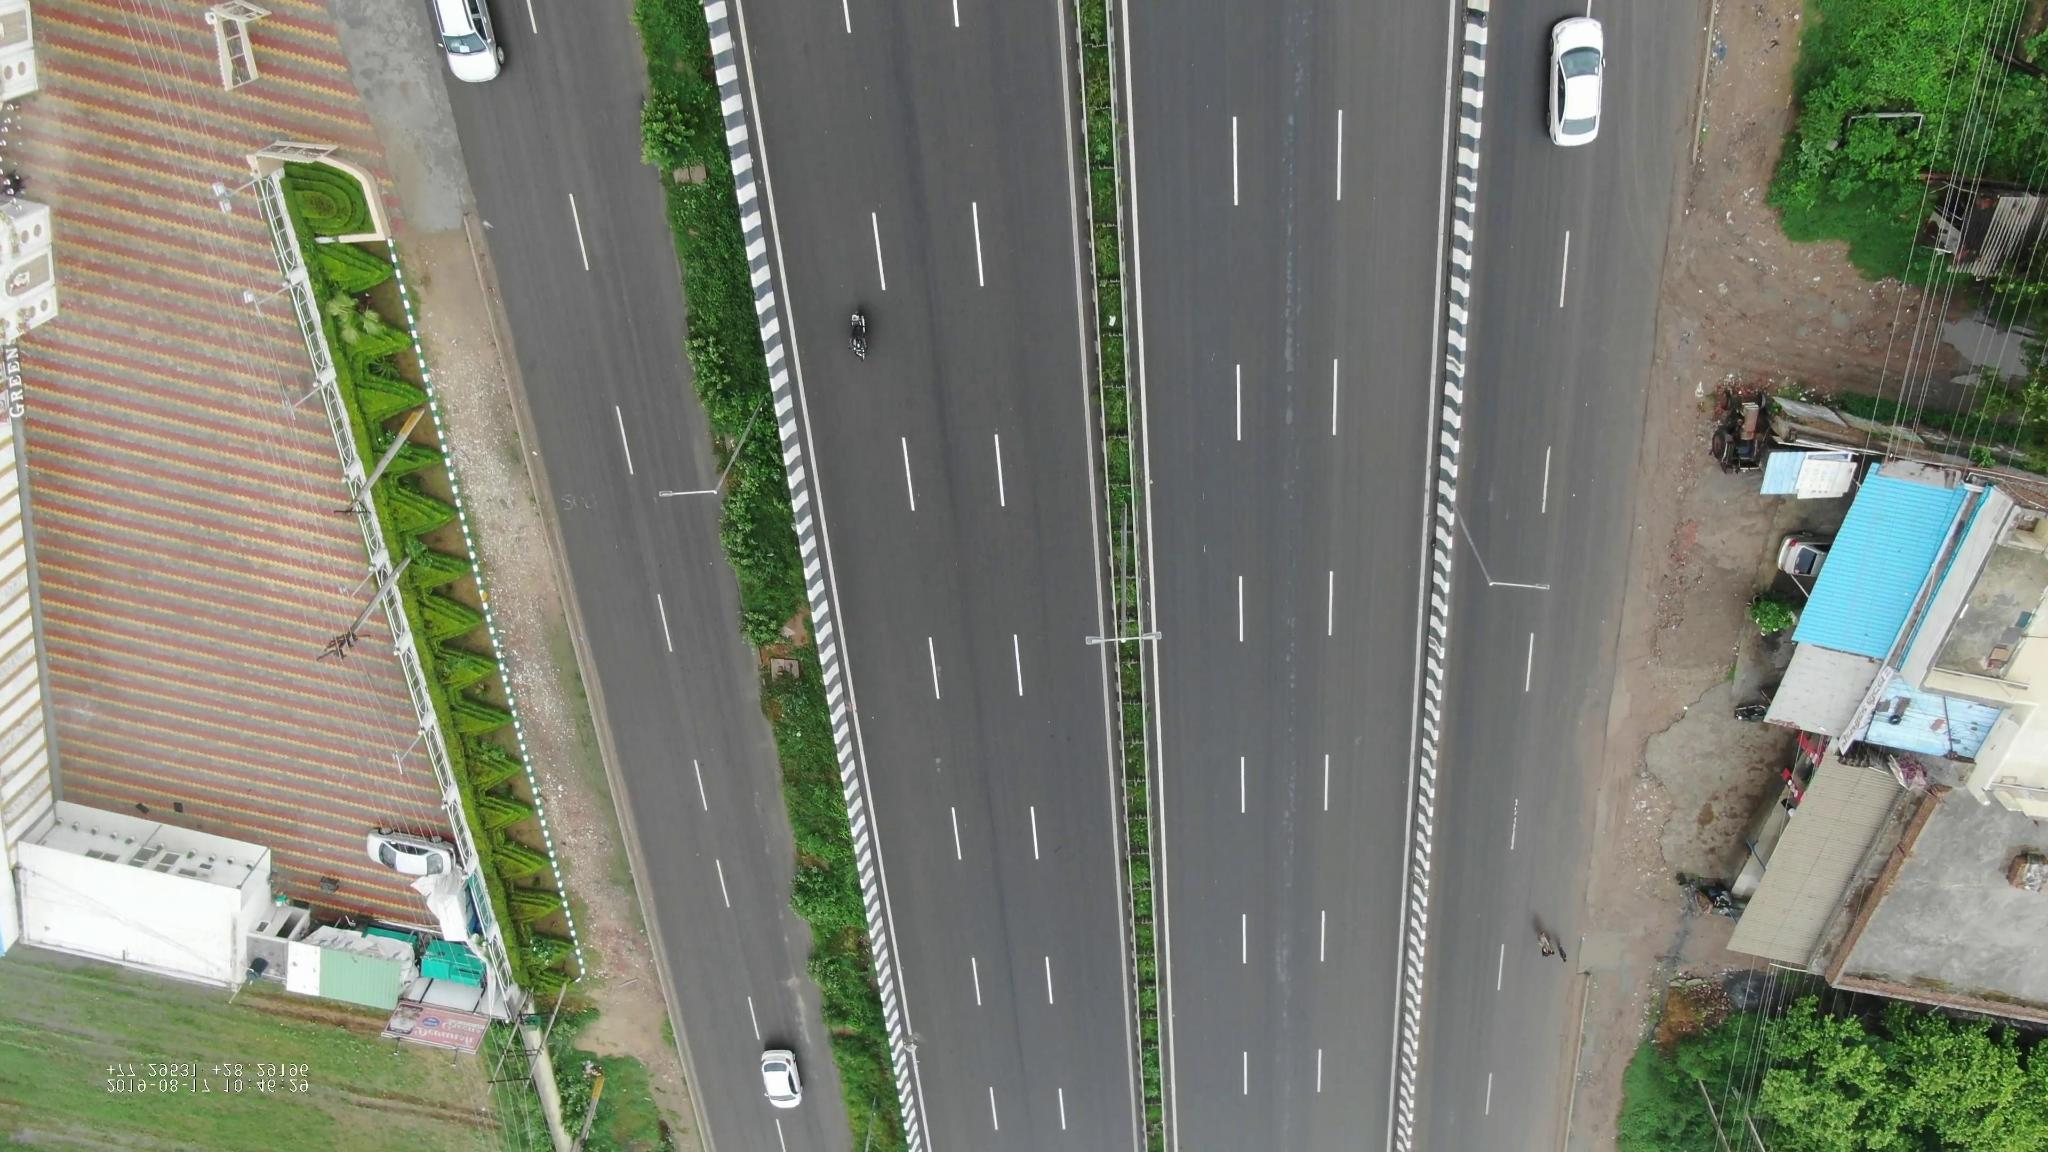Muddy_road: (1596, 670, 1641, 791)
